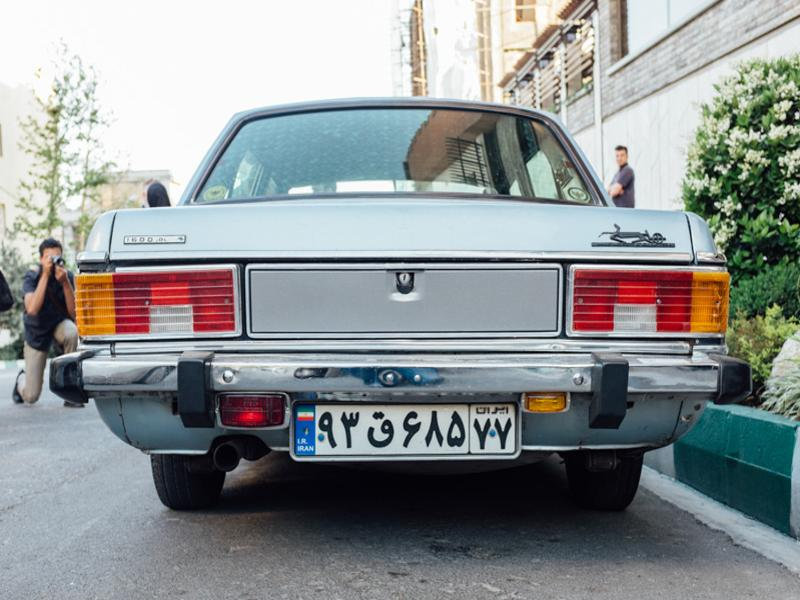Plate: (296, 404, 518, 455)
